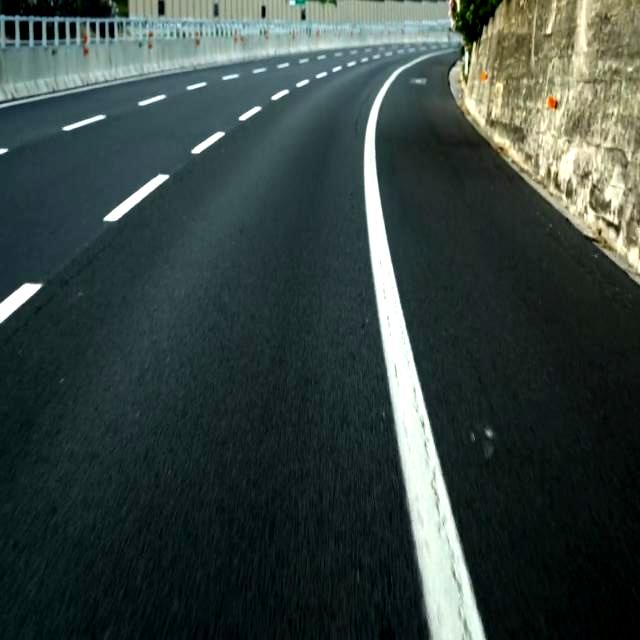lane: (364, 50, 486, 639), (104, 174, 169, 221), (1, 282, 42, 323), (191, 133, 225, 154), (62, 115, 106, 131), (239, 106, 262, 121), (138, 94, 166, 106), (187, 83, 206, 91)
road: (0, 55, 428, 639), (377, 53, 639, 639)
